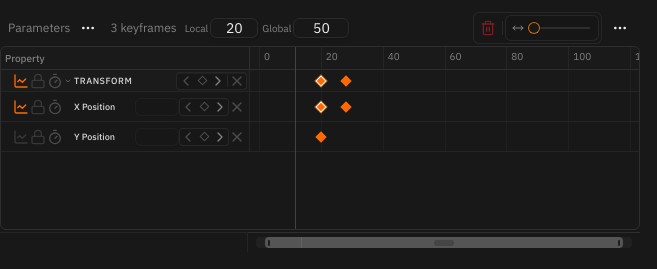
Test case: DopesheetEditor header frame inputs › clamps the local frame input before the next keyframe so frames cannot cross
Replace the text in the number field named "Local frame" with "40" at (234, 28), box [210,18,258,38]
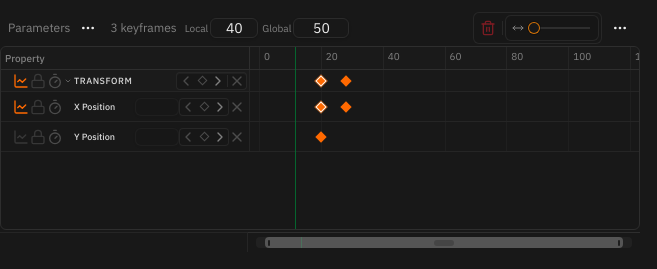
Leave the number field named "Local frame", box [210,18,258,38]
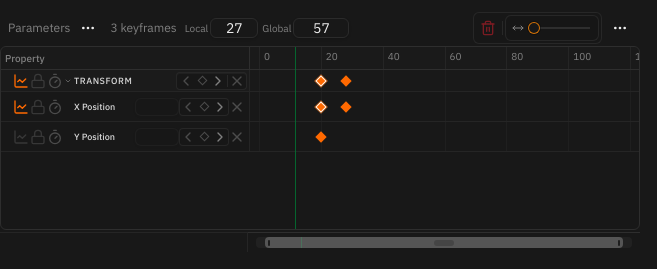
Check: the number field named "Local frame" holds "27", box [210,18,258,38]
